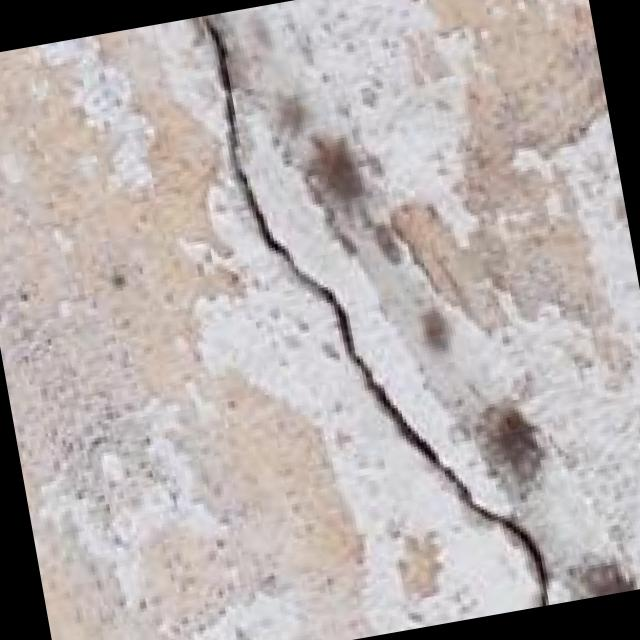crack: (157, 0, 542, 640)
